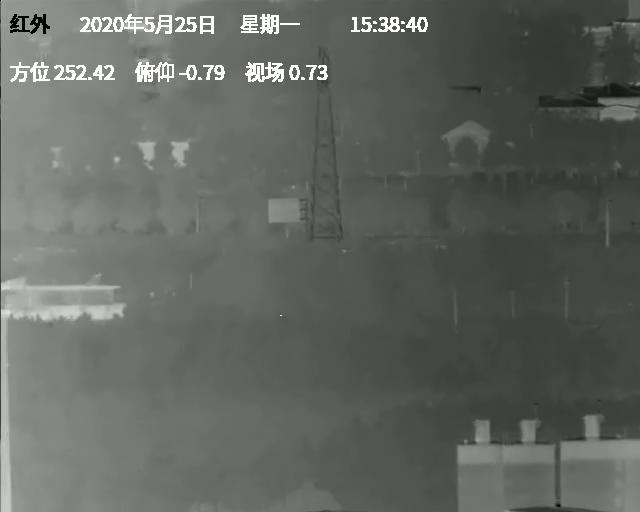uav: (340, 248, 349, 256)
